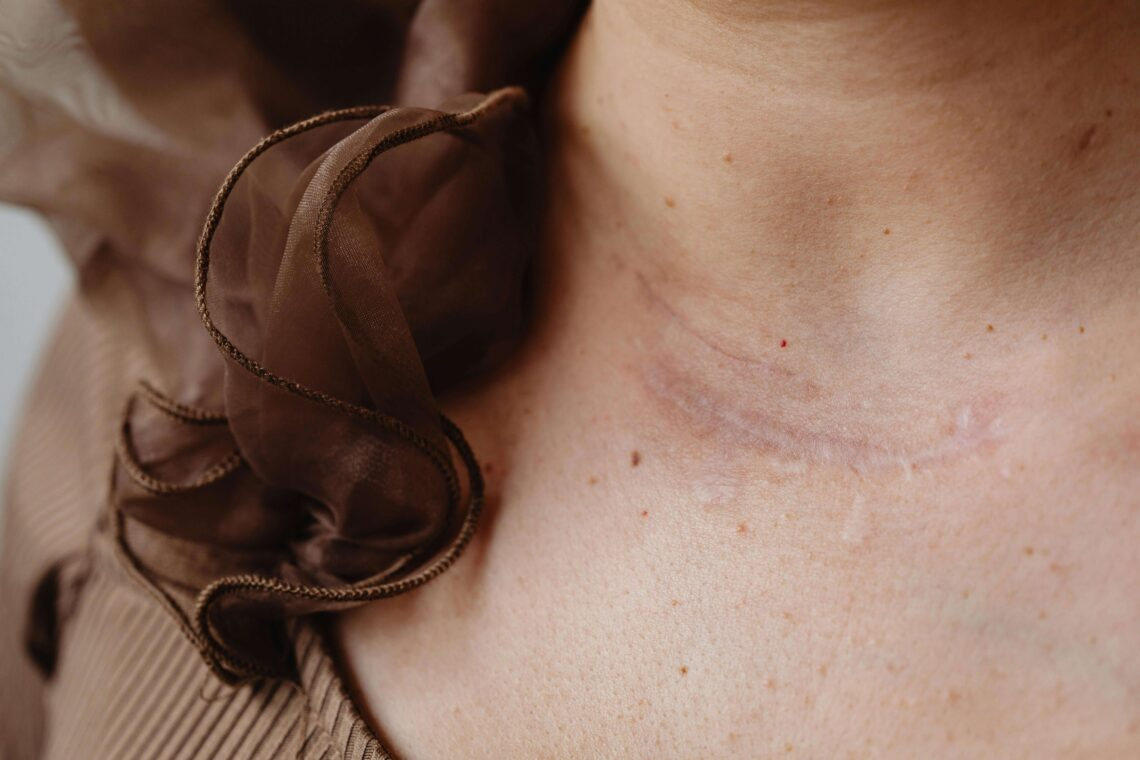scar: (608, 349, 1015, 565)
